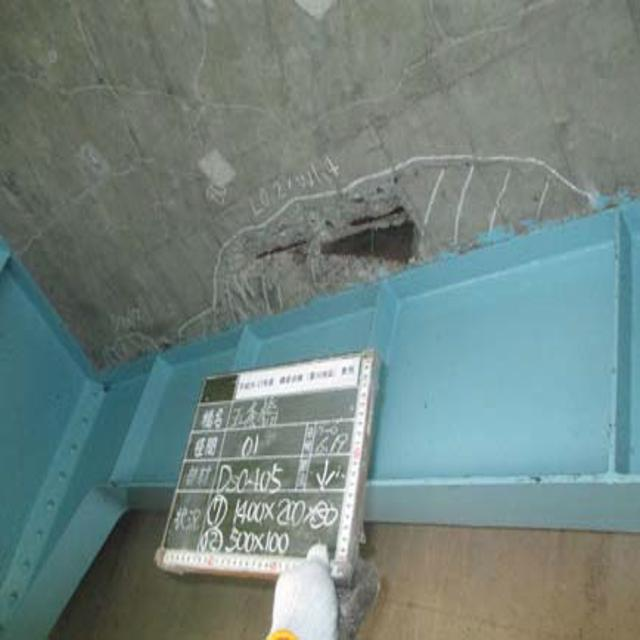spalling: (206, 189, 457, 294)
